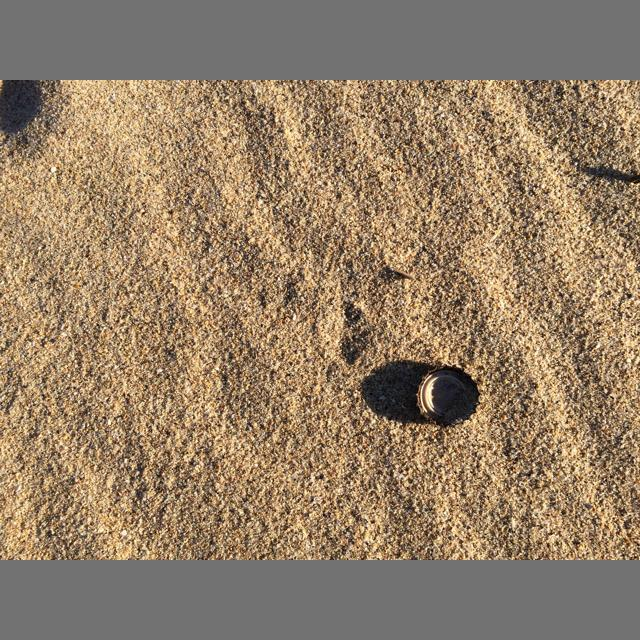litter: (415, 364, 481, 429)
